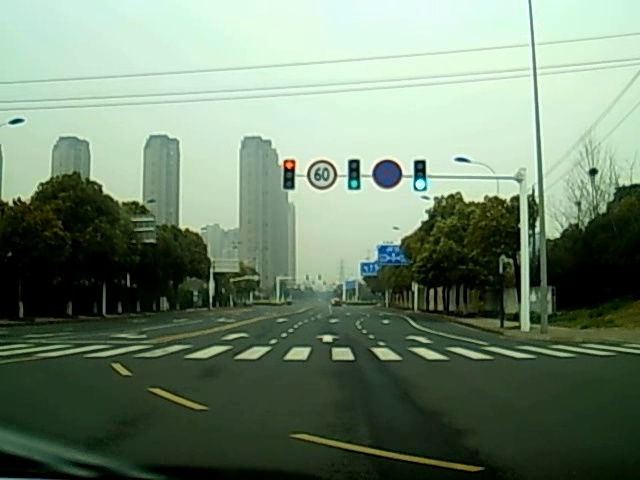Traffic_Light_go: (413, 160, 427, 194), (348, 161, 360, 190)
Traffic_Light_stop: (283, 158, 296, 190)
